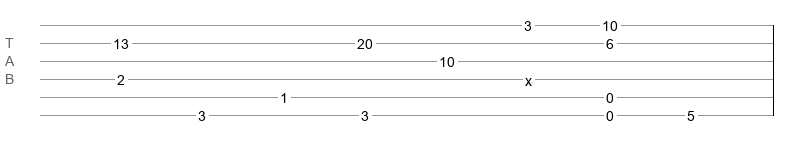0: (606, 90, 614, 100), (606, 108, 614, 118)
1: (280, 90, 288, 100)
10: (439, 54, 455, 64), (602, 18, 618, 28)
13: (113, 36, 129, 46)
2: (117, 72, 125, 82)
20: (357, 36, 373, 46)
3: (198, 108, 206, 118), (361, 108, 369, 118), (524, 18, 532, 28)
5: (687, 108, 695, 118)
6: (606, 36, 614, 46)
x: (525, 73, 532, 81)
